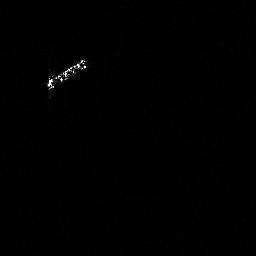ship: (41, 57, 97, 99)
